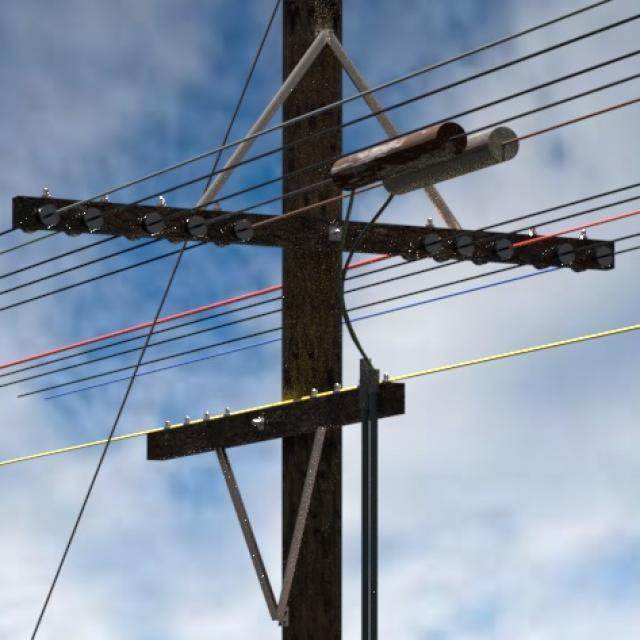crossarm: (16, 200, 616, 271), (147, 382, 406, 461)
pole: (283, 0, 342, 640)
